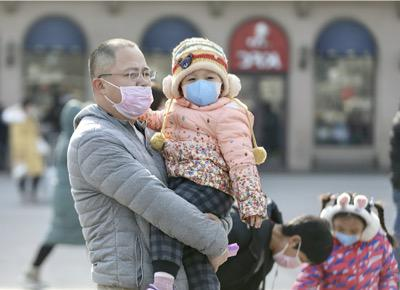mask_weared_incorrect: (103, 64, 156, 122)
with_mask: (179, 71, 223, 107), (269, 250, 309, 270), (333, 222, 362, 247)
